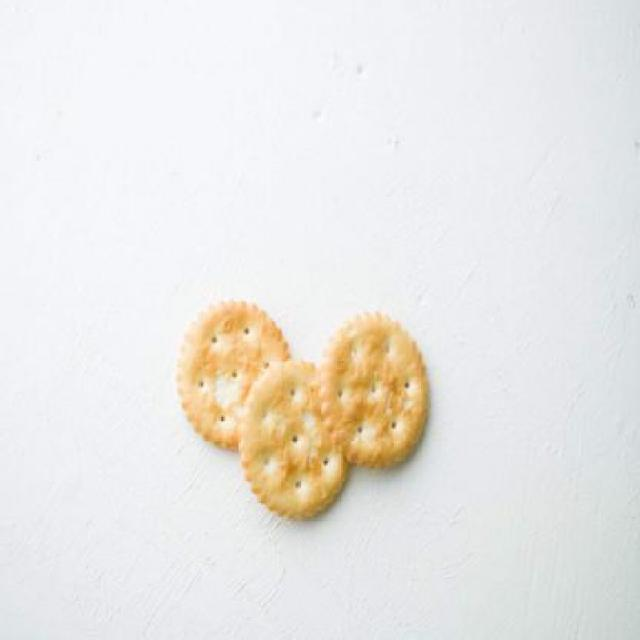Ritz cracker packaged: (166, 293, 440, 527)
